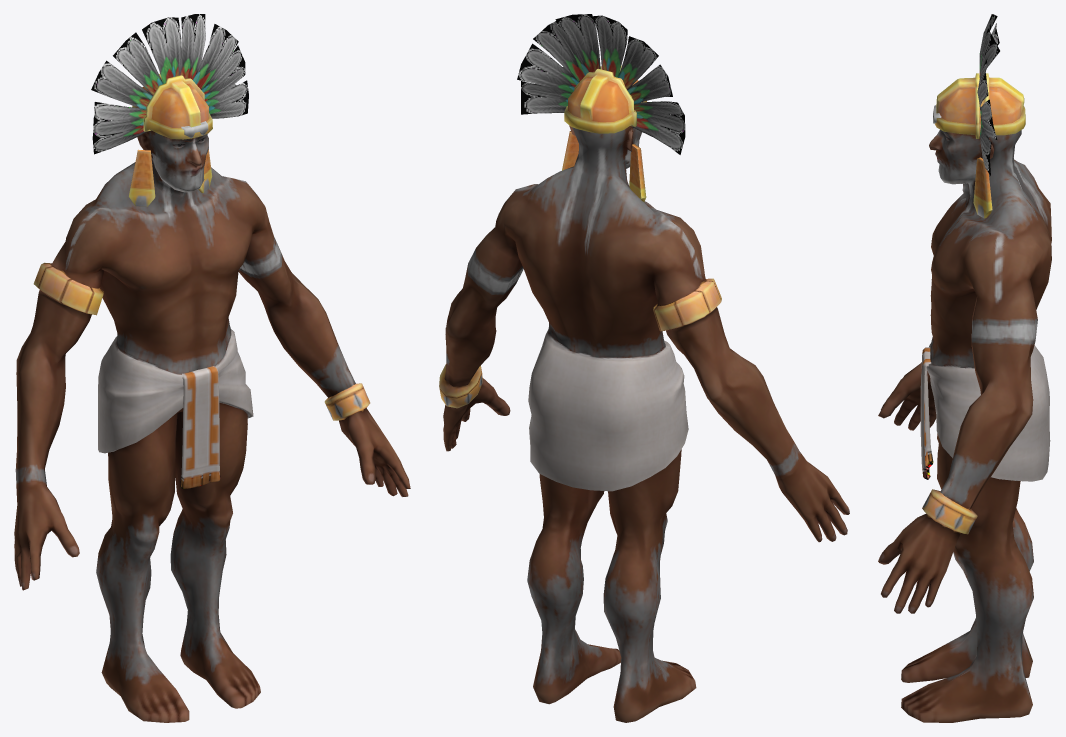
Rendered from 171-quinametzin.glb.
3 renders of one model, left to right at view 1: azimuth 30°, elevation 25°; view 2: azimuth 150°, elevation 25°; view 3: azimuth 270°, elevation 25°, orthographic. The views are drawn at different scales.
Size of the model in its own units: 3.66 by 6.04 by 1.41.
1 material, 1 textured.
